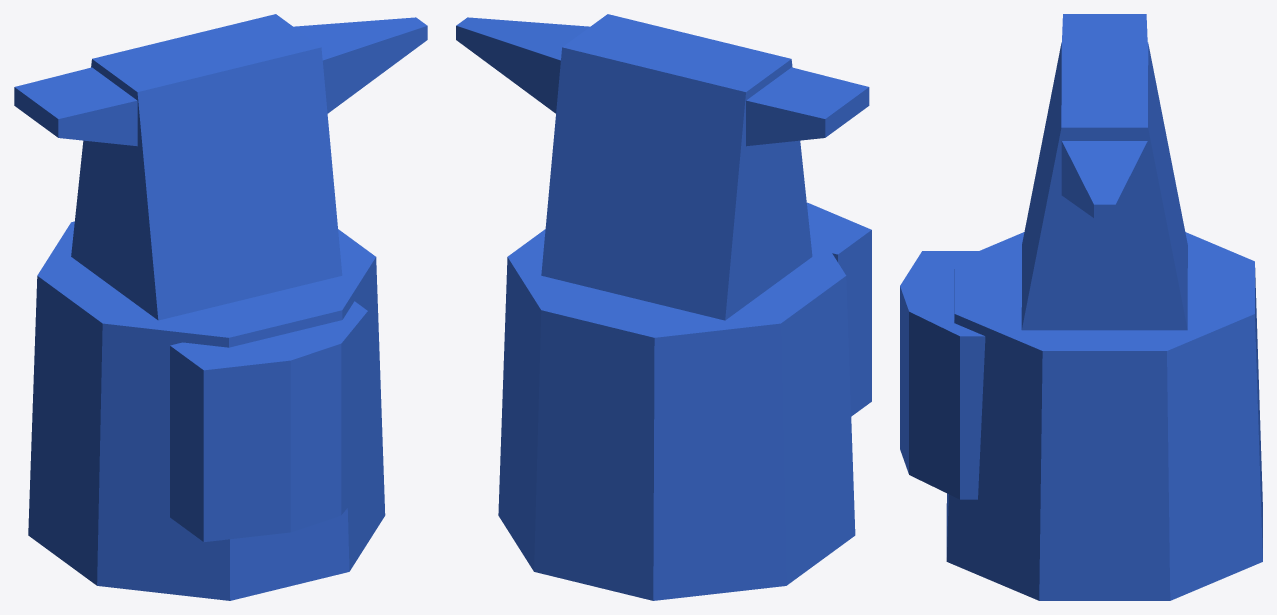
The model's file is Collision_Anvil_Log.fbx.
3 views of the same model, side by side, from view 1: azimuth 30°, elevation 25°; view 2: azimuth 150°, elevation 25°; view 3: azimuth 270°, elevation 25° (orthographic). The views are drawn at different scales.
Visible parts, largest first — view 1: UCX_Anvil_Log_1, UCX_Anvil_Log_2, UCX_Anvil_Log_5, UCX_Anvil_Log_4, UCX_Anvil_Log_3; view 2: UCX_Anvil_Log_1, UCX_Anvil_Log_2, UCX_Anvil_Log_4, UCX_Anvil_Log_3, UCX_Anvil_Log_5; view 3: UCX_Anvil_Log_1, UCX_Anvil_Log_2, UCX_Anvil_Log_5, UCX_Anvil_Log_3, UCX_Anvil_Log_4.
Boxes of the visible parts, box(x1,y1,x2,y2) form: UCX_Anvil_Log_1: box(28, 221, 385, 600); UCX_Anvil_Log_2: box(71, 14, 342, 320); UCX_Anvil_Log_5: box(170, 301, 367, 541); UCX_Anvil_Log_4: box(14, 67, 137, 146); UCX_Anvil_Log_3: box(293, 17, 427, 113); UCX_Anvil_Log_1: box(498, 221, 855, 600); UCX_Anvil_Log_2: box(541, 14, 812, 320); UCX_Anvil_Log_4: box(746, 67, 869, 146); UCX_Anvil_Log_3: box(456, 17, 589, 113); UCX_Anvil_Log_5: box(807, 202, 871, 416); UCX_Anvil_Log_1: box(946, 232, 1262, 600); UCX_Anvil_Log_2: box(1021, 42, 1187, 330); UCX_Anvil_Log_5: box(900, 251, 985, 499); UCX_Anvil_Log_3: box(1061, 141, 1147, 218); UCX_Anvil_Log_4: box(1062, 14, 1147, 42).
Size of the model in its own units: 93.41 by 109 by 80.13.
